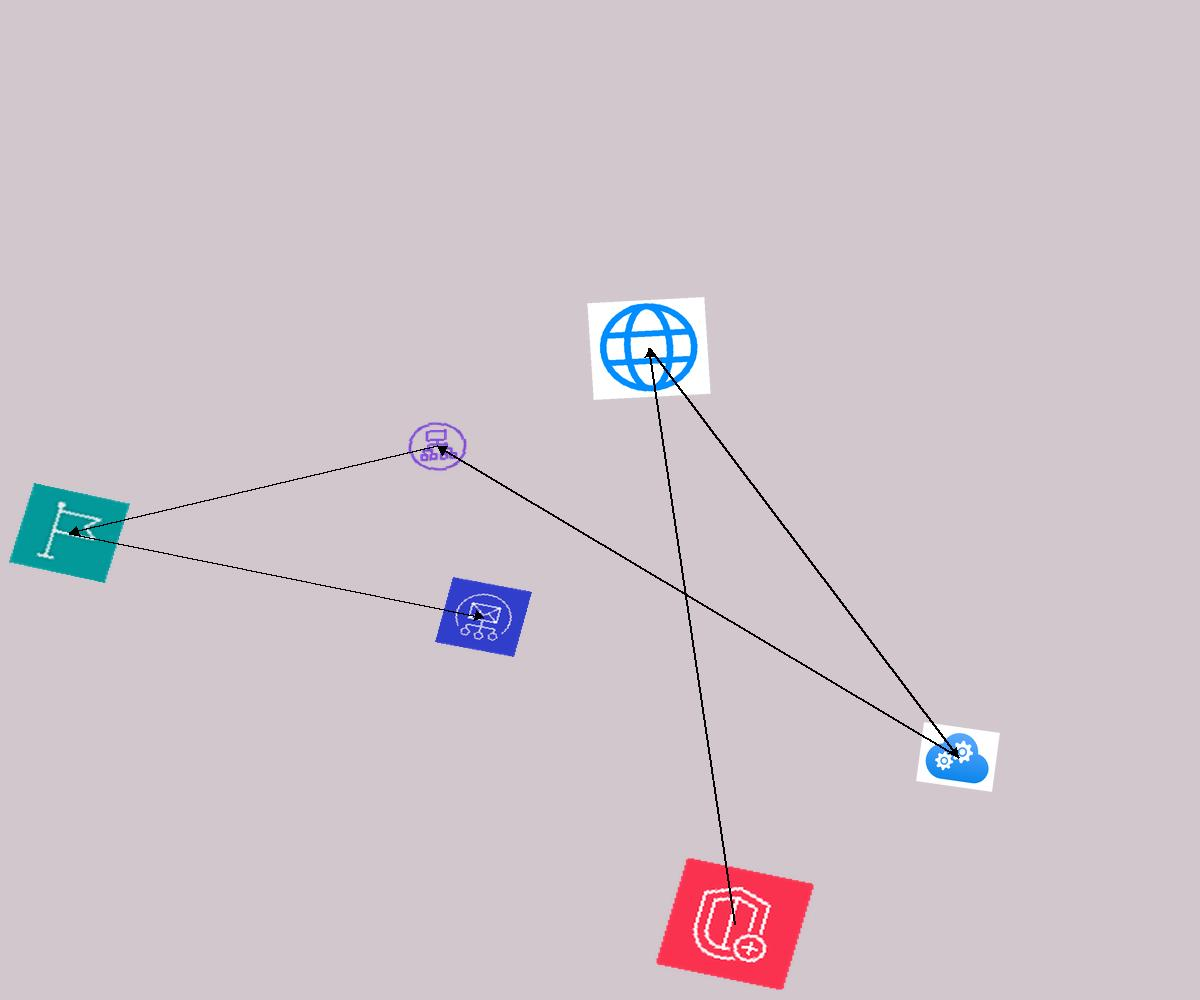AWS-Region: (9, 483, 130, 583)
AWS-Res_Elastic-Load-Balancing_Application-Load-Balancer: (402, 417, 473, 476)
AWS-Shield: (655, 857, 815, 991)
AWS-Simple-Email-Service: (435, 577, 532, 657)
Azure_cloud_services: (916, 722, 1000, 792)
Azure_http: (587, 297, 711, 400)
